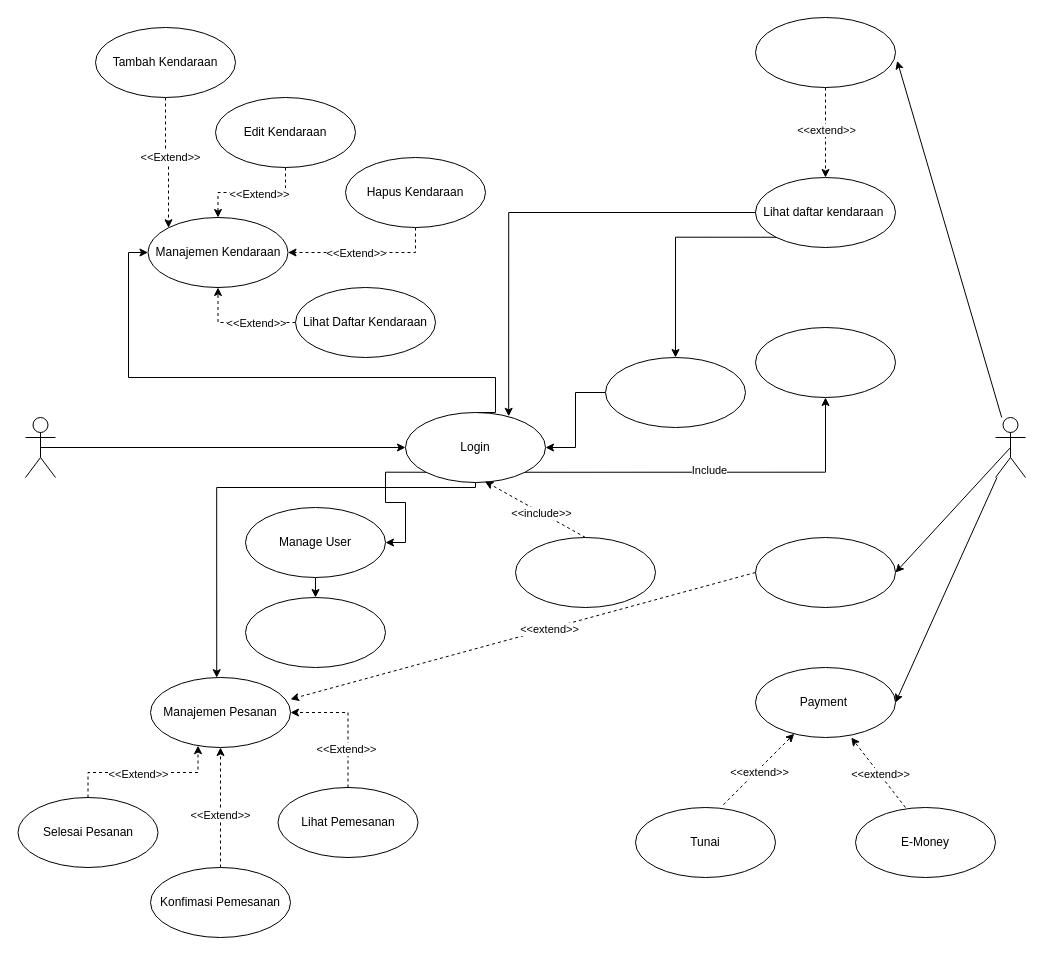
This 1058x955 diagram has some shape labels left out. The shapes that lost their labels are listed below. From the top down, each one's centre as x and y in pixels, then its label:
(825,52): Home
(825,362): Pesan kendaraan
(675,392): Daftar
(40,447): Admin
(1010,447): Pelanggan
(585,572): Validasi data
(825,572): Lihat data pesanan
(315,632): Hapus User
